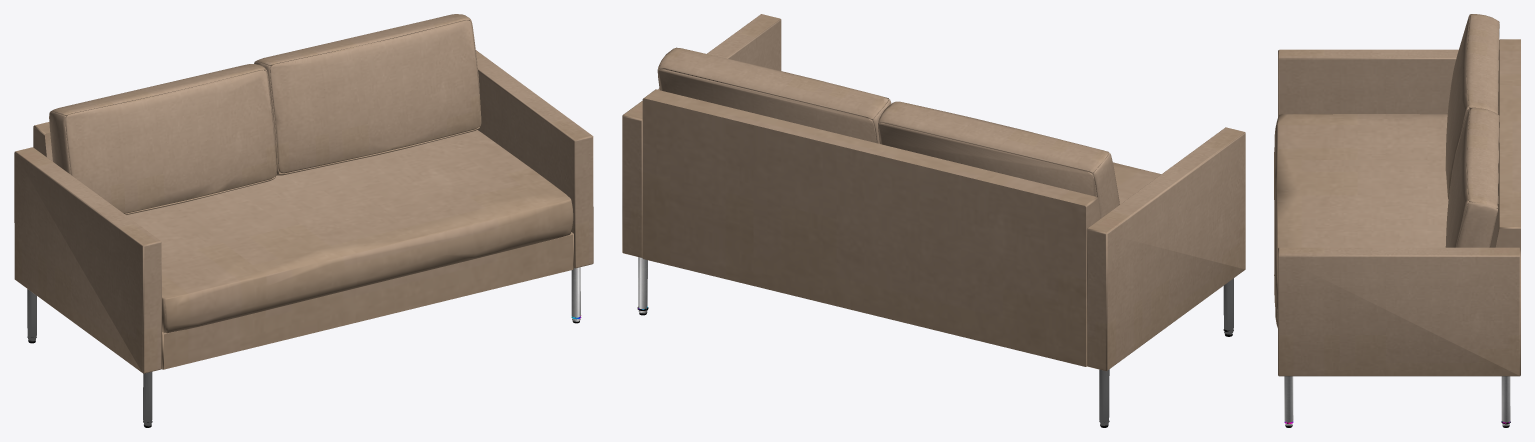
File: sofa-modelo-duplo-quad-2.glb
3 renders of one model, left to right at view 1: azimuth 30°, elevation 25°; view 2: azimuth 150°, elevation 25°; view 3: azimuth 270°, elevation 25°, orthographic. The views are drawn at different scales.
Parts seen in each view (by area): view 1: Modelo Duplo Quad 2; view 2: Modelo Duplo Quad 2; view 3: Modelo Duplo Quad 2.
Boxes of the visible parts, x1,y1,x2,y2 form: Modelo Duplo Quad 2: (14, 14, 593, 427); Modelo Duplo Quad 2: (622, 14, 1245, 427); Modelo Duplo Quad 2: (1274, 14, 1520, 427).
Size of the model in its own units: 1.61 by 0.812 by 0.813.
Materials: 4 (3 with a texture image).
